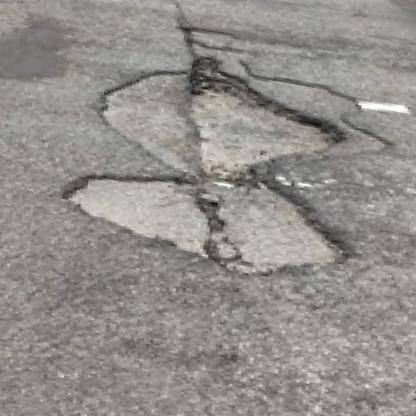pothole: (50, 142, 375, 298), (88, 37, 359, 189)
